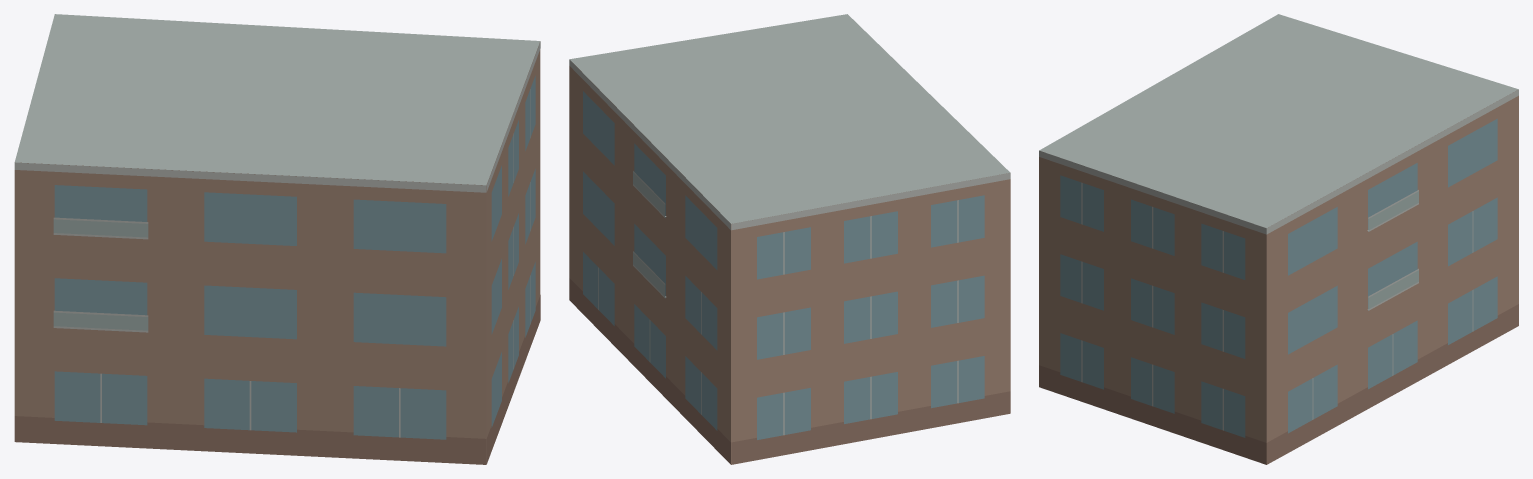
File: survey-upis-32704580.glb
The picture shows the model from 3 angles, left to right: view 1: azimuth 30°, elevation 25°; view 2: azimuth 150°, elevation 25°; view 3: azimuth 270°, elevation 25°; orthographic projection. The views are drawn at different scales.
Parts seen in each view (by area): view 1: survey-upis-32704580.tmp; view 2: survey-upis-32704580.tmp; view 3: survey-upis-32704580.tmp.
Part boxes in pixels (bbox=[...]): survey-upis-32704580.tmp: bbox=[14, 14, 540, 464]; survey-upis-32704580.tmp: bbox=[569, 14, 1010, 464]; survey-upis-32704580.tmp: bbox=[1039, 14, 1518, 464].
Bounding box in the file's own units: 17.78 × 9.15 × 16.82.
